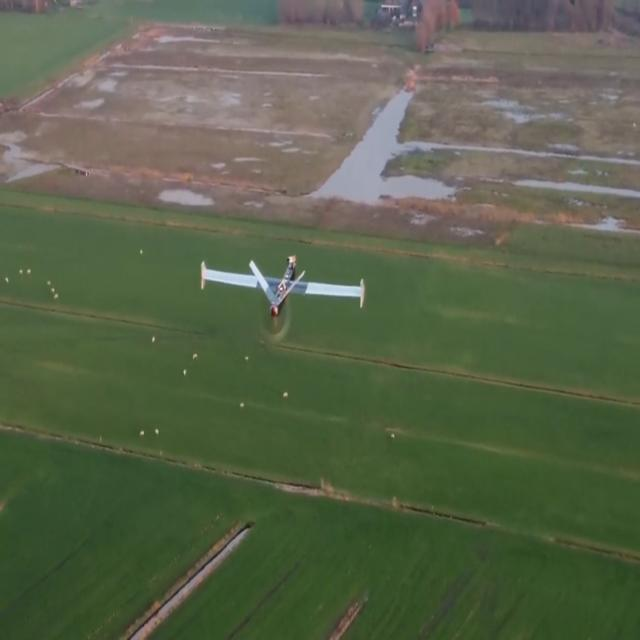iha: (200, 272, 364, 296)
